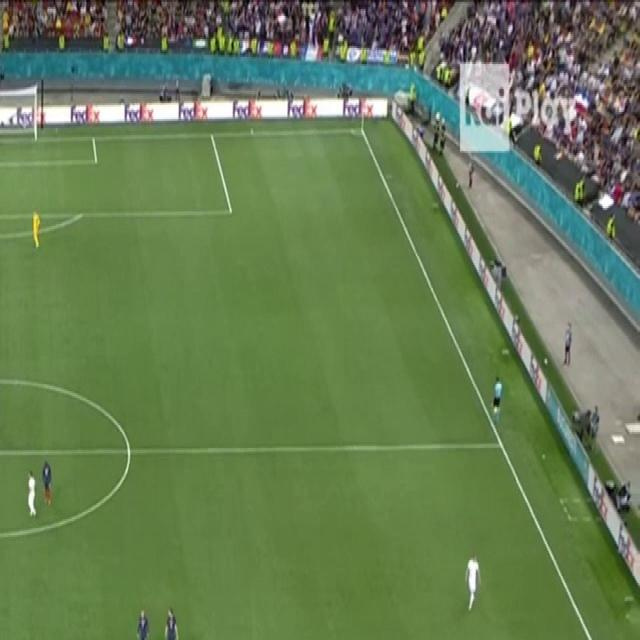player-white: (462, 551, 482, 613), (490, 372, 504, 426), (40, 456, 53, 508), (26, 468, 38, 521), (161, 606, 179, 640), (134, 604, 150, 640), (30, 206, 42, 252)
